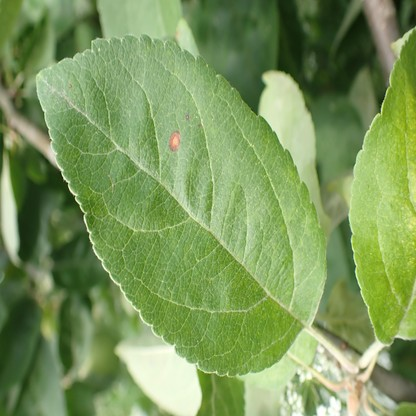frogeye_leaf_spot: (169, 129, 181, 152)
